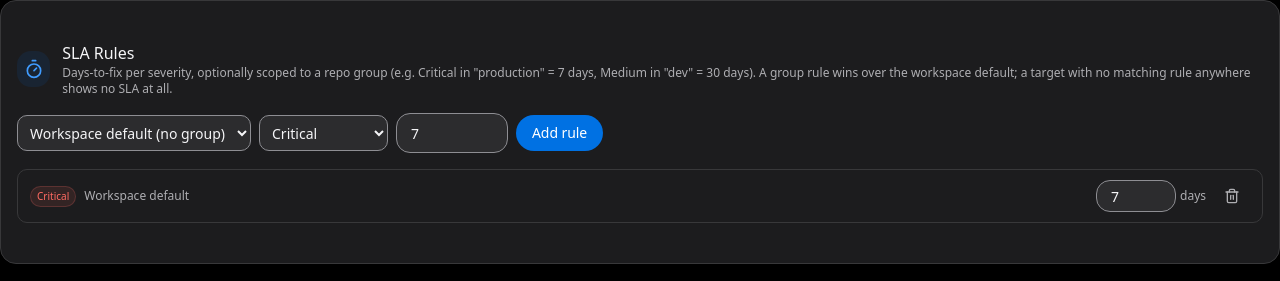
SlaRules, editing days-to-fix inline › discards the draft on an explicit click of the X, restoring the committed value
Replace the text in the number field named "Days to fix for Critical in Workspace default" with "30" at (1136, 196), box [1096,180,1176,212]
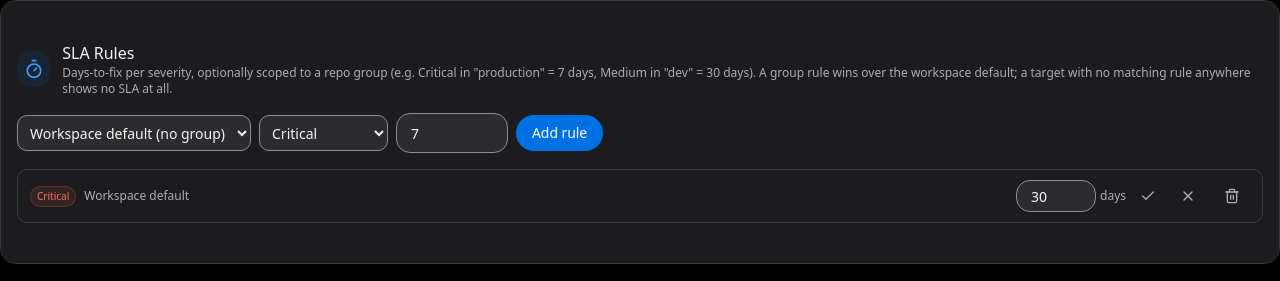
Click the button named "Discard unsaved days to fix for Critical in Workspace default".
click(1188, 196)  # box [1170,178,1206,214]
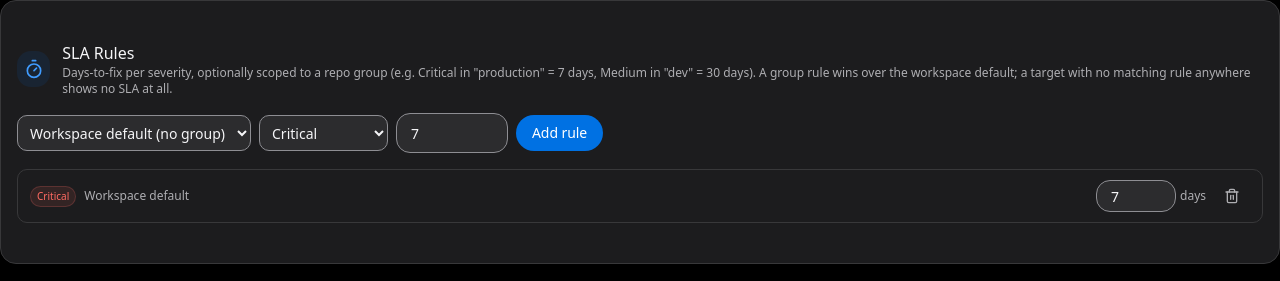
Expected: the number field named "Days to fix for Critical in Workspace default" holds "7", [1096,180,1176,212]
